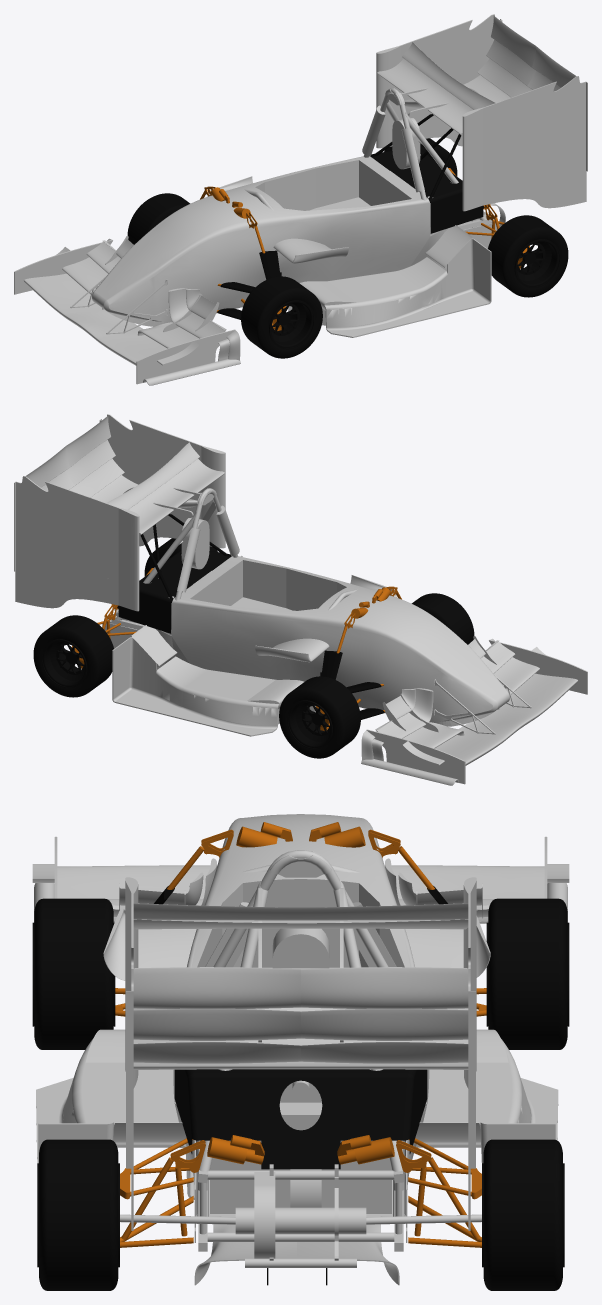
3 renders of one model, top to bottom at view 1: azimuth 30°, elevation 25°; view 2: azimuth 150°, elevation 25°; view 3: azimuth 270°, elevation 25°, orthographic. The views are drawn at different scales.
Parts seen in each view (by area): view 1: body-2-1Solid-162-1, RW-2-1RW_Mounts-2-1Solid-139-1, FW-2-1FW_Mounts-3-1Solid-119-1.125, DIFFUSER-1Solid-159-1, WHEELS-2-1FR-2-1, WHEELS-2-1RL-2-1, body-2-1Solid-163-1, suspension_front-2-1Solid-178-1, RW-2-1RW_Mounts-2-1Solid-136-1; view 2: body-2-1Solid-162-1, RW-2-1RW_Mounts-2-1Solid-139-1, FW-2-1FW_Mounts-3-1Solid-119-1.125, DIFFUSER-1Solid-159-1, WHEELS-2-1FR-2-1, WHEELS-2-1RR-2-1, body-2-1Solid-163-1, suspension_front-2-1Solid-178-1, RW-2-1RW_Mounts-2-1Solid-136-1; view 3: RW-2-1RW_Mounts-2-1Solid-139-1, DIFFUSER-1Solid-159-1, body-2-1Solid-162-1, WHEELS-2-1FR-2-1, body-2-1Solid-163-1, FW-2-1FW_Mounts-3-1Solid-119-1.125, WHEELS-2-1RL-2-1, WHEELS-2-1RR-2-1, suspension_rear-2-1Solid-206-1, body-2-1Solid-165-1, body-2-1Solid-164-1, suspension_front-2-1Solid-178-1.
Boxes of the visible parts, box(x1,y1,x2,y2) form: body-2-1Solid-162-1: box(92, 88, 499, 326); RW-2-1RW_Mounts-2-1Solid-139-1: box(376, 14, 587, 211); FW-2-1FW_Mounts-3-1Solid-119-1.125: box(14, 236, 240, 385); DIFFUSER-1Solid-159-1: box(207, 176, 491, 337); WHEELS-2-1FR-2-1: box(127, 193, 322, 358); WHEELS-2-1RL-2-1: box(488, 215, 568, 297); body-2-1Solid-163-1: box(370, 150, 484, 233); suspension_front-2-1Solid-178-1: box(200, 186, 281, 329); RW-2-1RW_Mounts-2-1Solid-136-1: box(371, 114, 461, 202); body-2-1Solid-162-1: box(102, 488, 509, 726); RW-2-1RW_Mounts-2-1Solid-139-1: box(14, 414, 225, 611); FW-2-1FW_Mounts-3-1Solid-119-1.125: box(361, 636, 587, 785); DIFFUSER-1Solid-159-1: box(112, 555, 396, 736); WHEELS-2-1FR-2-1: box(279, 593, 474, 758); WHEELS-2-1RR-2-1: box(33, 615, 113, 697); body-2-1Solid-163-1: box(117, 550, 231, 633); suspension_front-2-1Solid-178-1: box(320, 586, 401, 729); RW-2-1RW_Mounts-2-1Solid-136-1: box(140, 514, 230, 602); RW-2-1RW_Mounts-2-1Solid-139-1: box(125, 877, 476, 1230); DIFFUSER-1Solid-159-1: box(36, 905, 558, 1285); body-2-1Solid-162-1: box(173, 814, 429, 1251); WHEELS-2-1FR-2-1: box(32, 898, 569, 1049); body-2-1Solid-163-1: box(174, 1069, 427, 1169); FW-2-1FW_Mounts-3-1Solid-119-1.125: box(32, 836, 569, 923); WHEELS-2-1RL-2-1: box(37, 1139, 119, 1290); WHEELS-2-1RR-2-1: box(482, 1139, 564, 1290); suspension_rear-2-1Solid-206-1: box(120, 1135, 481, 1247); body-2-1Solid-165-1: box(120, 1164, 481, 1267); body-2-1Solid-164-1: box(210, 1080, 391, 1213); suspension_front-2-1Solid-178-1: box(115, 822, 486, 1016).
Bounding box in the file's own units: 2.94 × 1.13 × 1.46.
